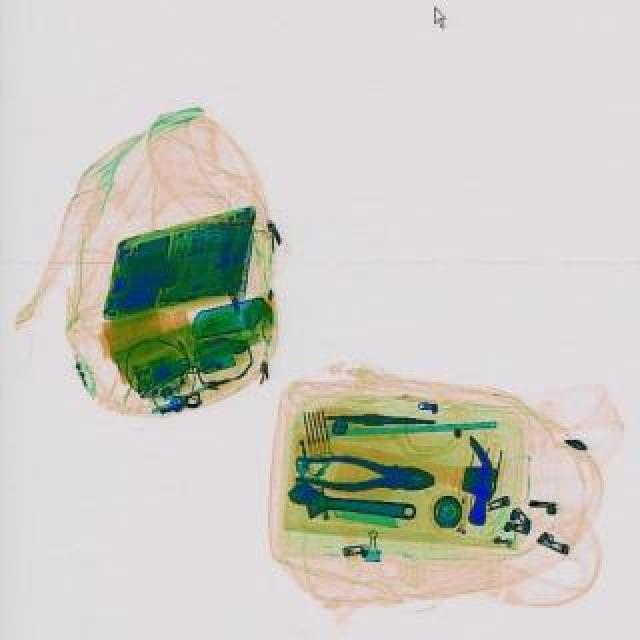scissors: (284, 478, 416, 528)
wrench: (292, 452, 436, 496)
